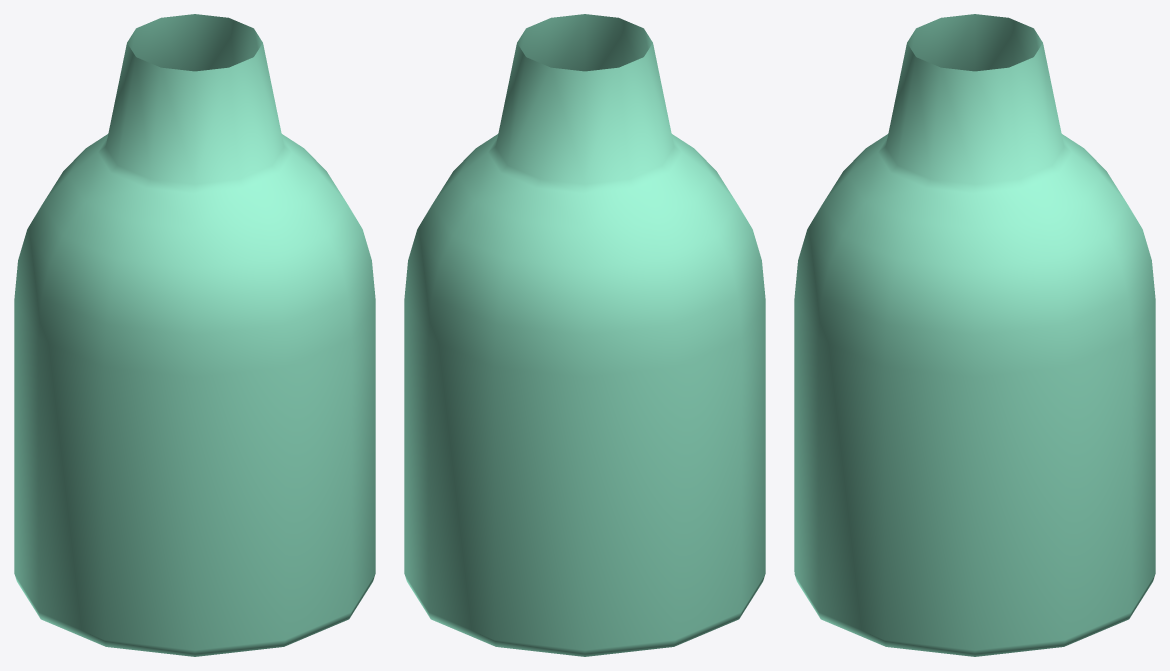
File: spray_bottle.fbx
3 renders of one model, left to right at view 1: azimuth 30°, elevation 25°; view 2: azimuth 150°, elevation 25°; view 3: azimuth 270°, elevation 25°, orthographic.
Visible parts, largest first — view 1: puleverizator; view 2: puleverizator; view 3: puleverizator.
Part boxes in pixels (x1,y1,x2,y2): puleverizator: (14,14,375,656); puleverizator: (404,14,765,656); puleverizator: (794,14,1155,656).
Size of the model in its own units: 22.01 by 22.01 by 36.31.
